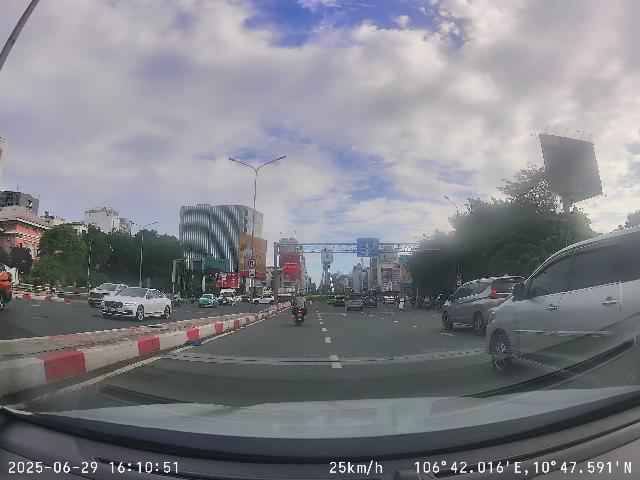124a-cam-quay-dau-xe: (247, 258, 256, 268), (456, 273, 462, 279)
